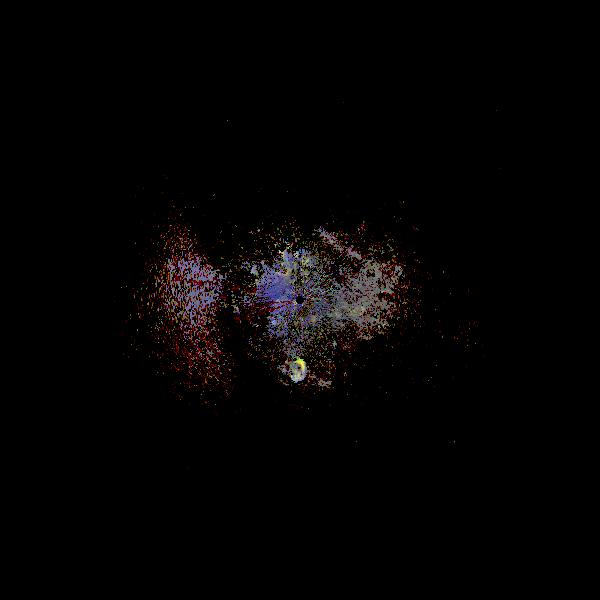roost: (285, 357, 315, 387)
